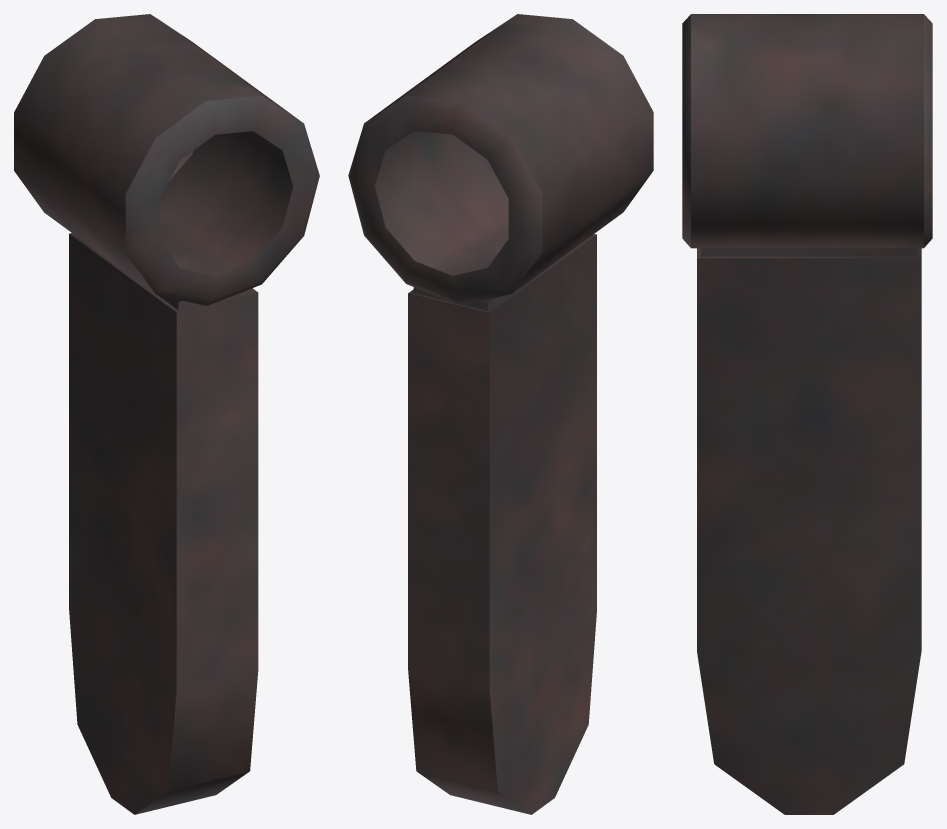
Rendered from rod_shiber.fbx.
3 views of the same model, side by side, from view 1: azimuth 30°, elevation 25°; view 2: azimuth 150°, elevation 25°; view 3: azimuth 270°, elevation 25° (orthographic). The views are drawn at different scales.
Visible parts, largest first — view 1: rod_shiber; view 2: rod_shiber; view 3: rod_shiber.
Boxes of the visible parts, bbox=[...] form: rod_shiber: bbox=[14, 14, 319, 814]; rod_shiber: bbox=[348, 14, 653, 814]; rod_shiber: bbox=[682, 14, 932, 814].
Bounding box in the file's own units: 0.0659 × 0.24 × 0.0705.
